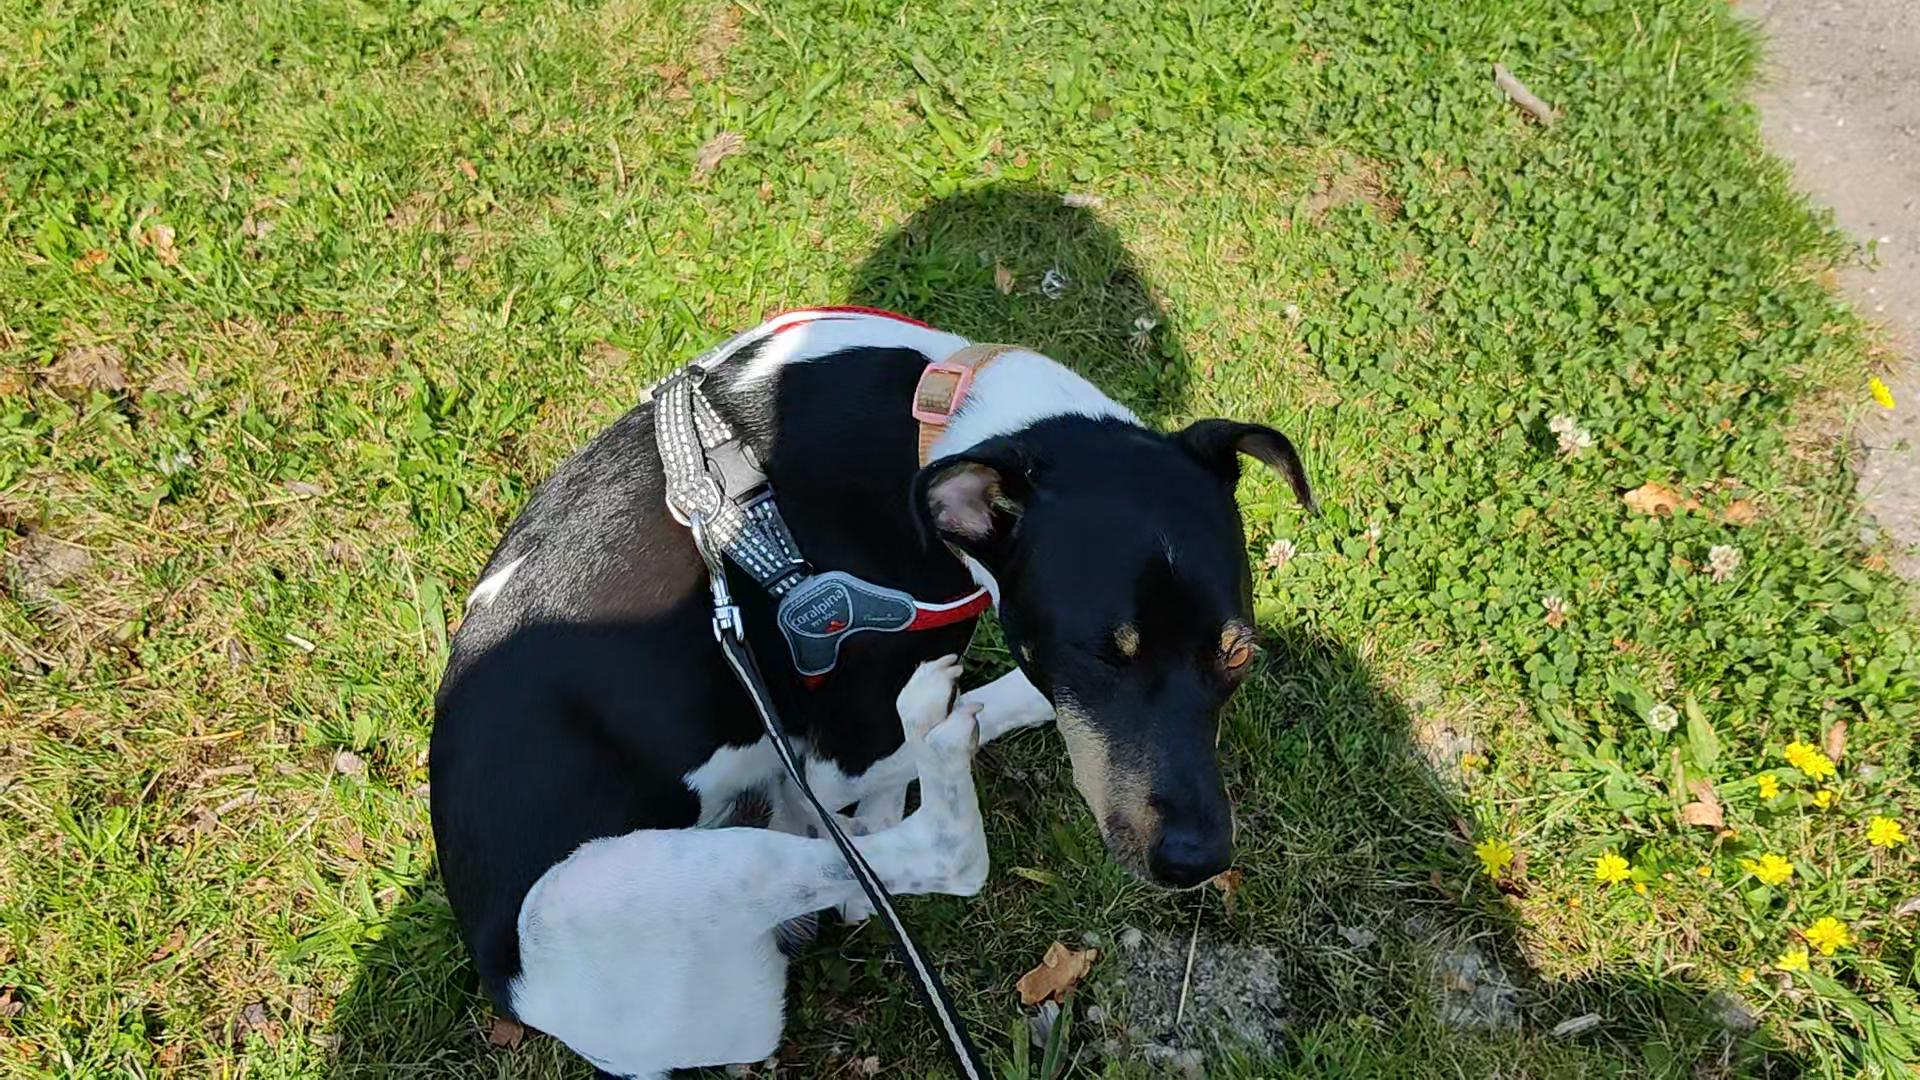Dog: (422, 298, 1332, 1079)
